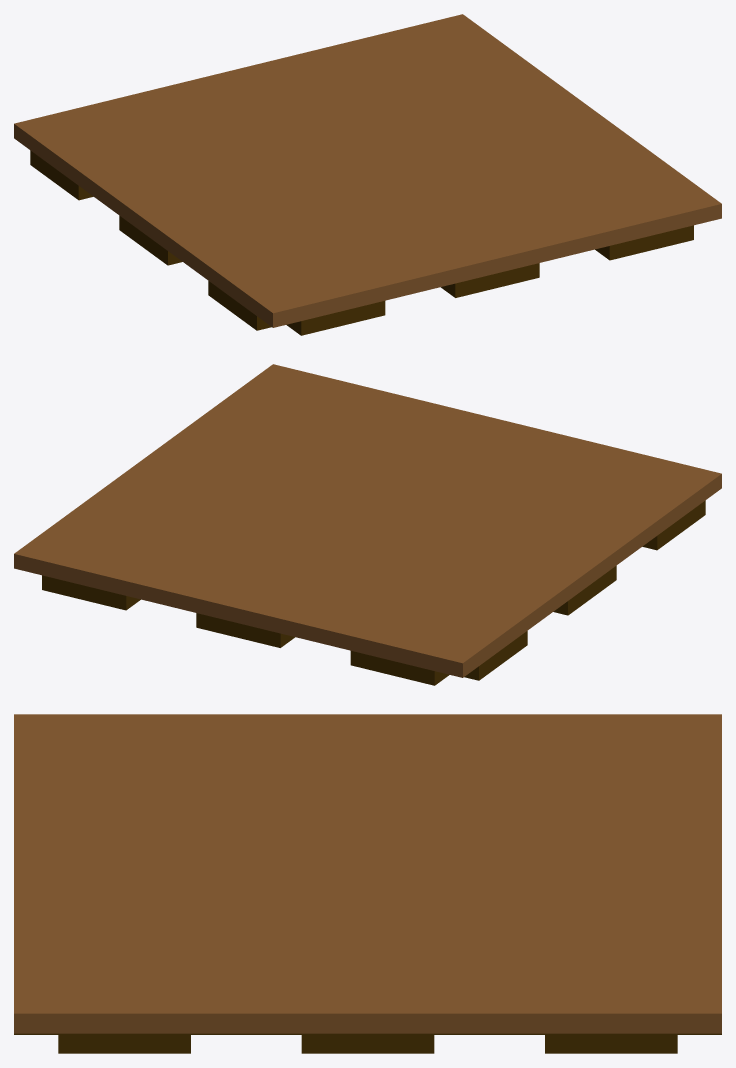
File: GameAsset-1.obj
3 views of the same model, one above another, from view 1: azimuth 30°, elevation 25°; view 2: azimuth 150°, elevation 25°; view 3: azimuth 270°, elevation 25° (orthographic). The views are drawn at different scales.
Size of the model in its own units: 3.2 by 0.2 by 3.2.
Materials: 1 (1 with a texture image).
